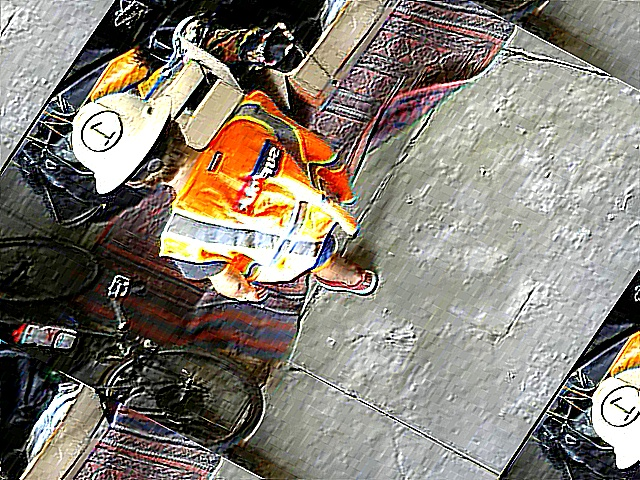one: (73, 105, 129, 158)
